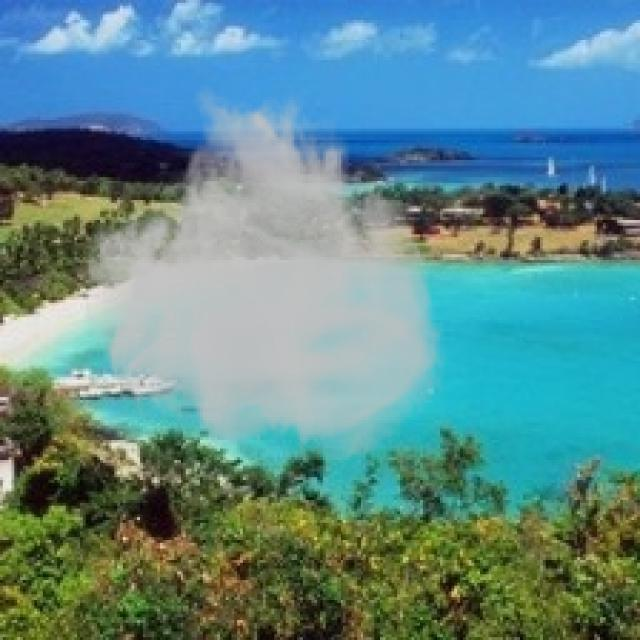Smoke: (80, 83, 449, 466)
